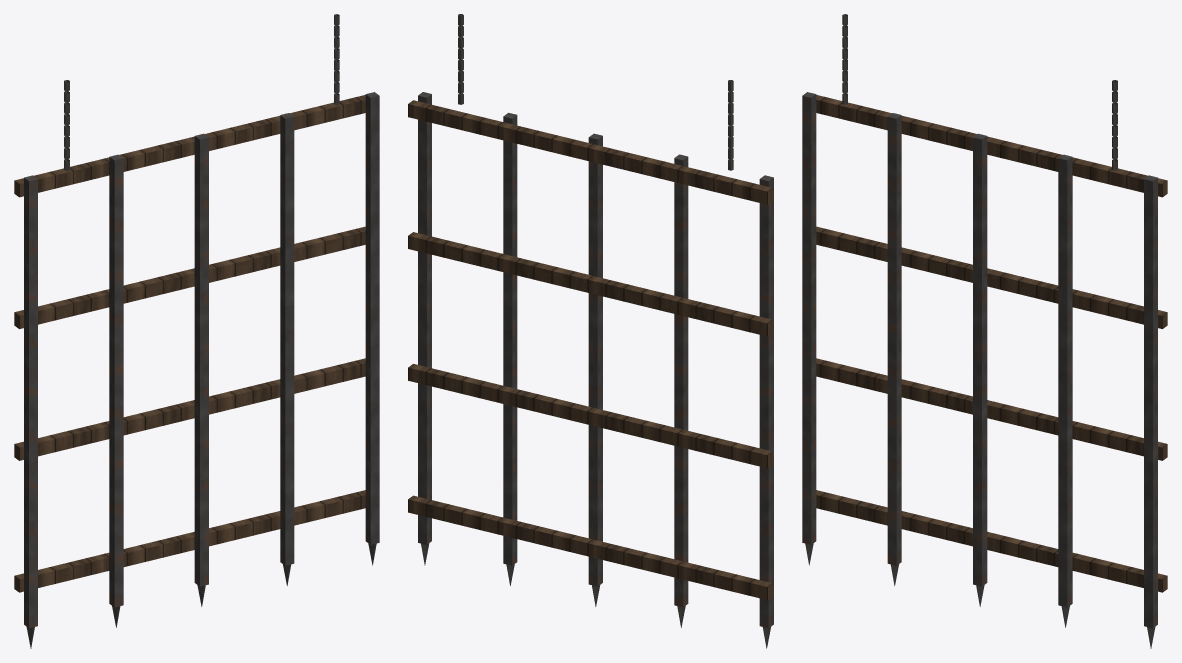
The model's file is Portcullis_1_LOD1.gltf.
3 renders of one model, left to right at view 1: azimuth 30°, elevation 25°; view 2: azimuth 150°, elevation 25°; view 3: azimuth 330°, elevation 25°, orthographic.
Parts seen in each view (by area): view 1: Portcullis_1_LOD1; view 2: Portcullis_1_LOD1; view 3: Portcullis_1_LOD1.
Part boxes in pixels (x1,y1,x2,y2): Portcullis_1_LOD1: (14, 14, 379, 648); Portcullis_1_LOD1: (408, 14, 773, 648); Portcullis_1_LOD1: (802, 14, 1167, 648).
Size of the model in its own units: 4 by 5.94 by 0.2.
2 materials, 2 textured.
